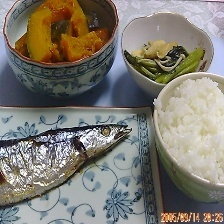rice: (153, 76, 224, 191)
